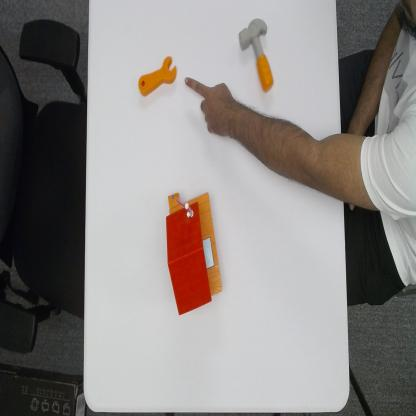Arm: (240, 103, 416, 212)
Hammer: (238, 16, 277, 94)
Hand: (184, 73, 240, 142)
House: (165, 187, 222, 319)
Screwdriver: (138, 54, 178, 99)
